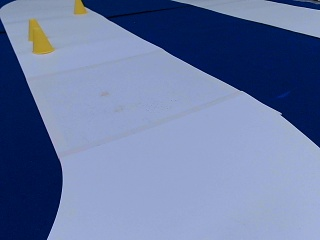cone: (27, 19, 53, 54), (72, 0, 85, 13)
